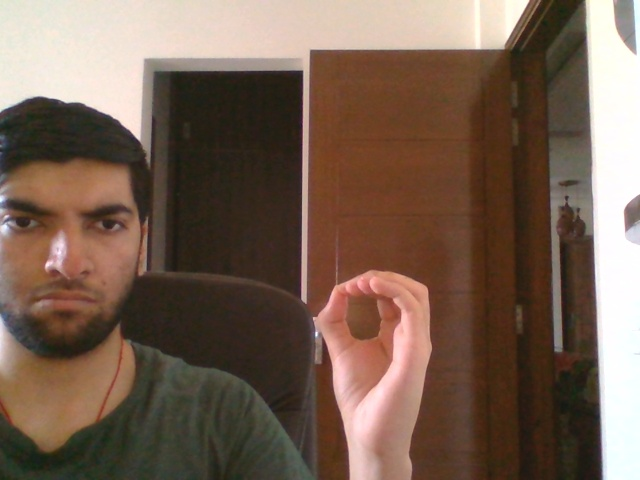LetterO: (315, 267, 433, 454)
